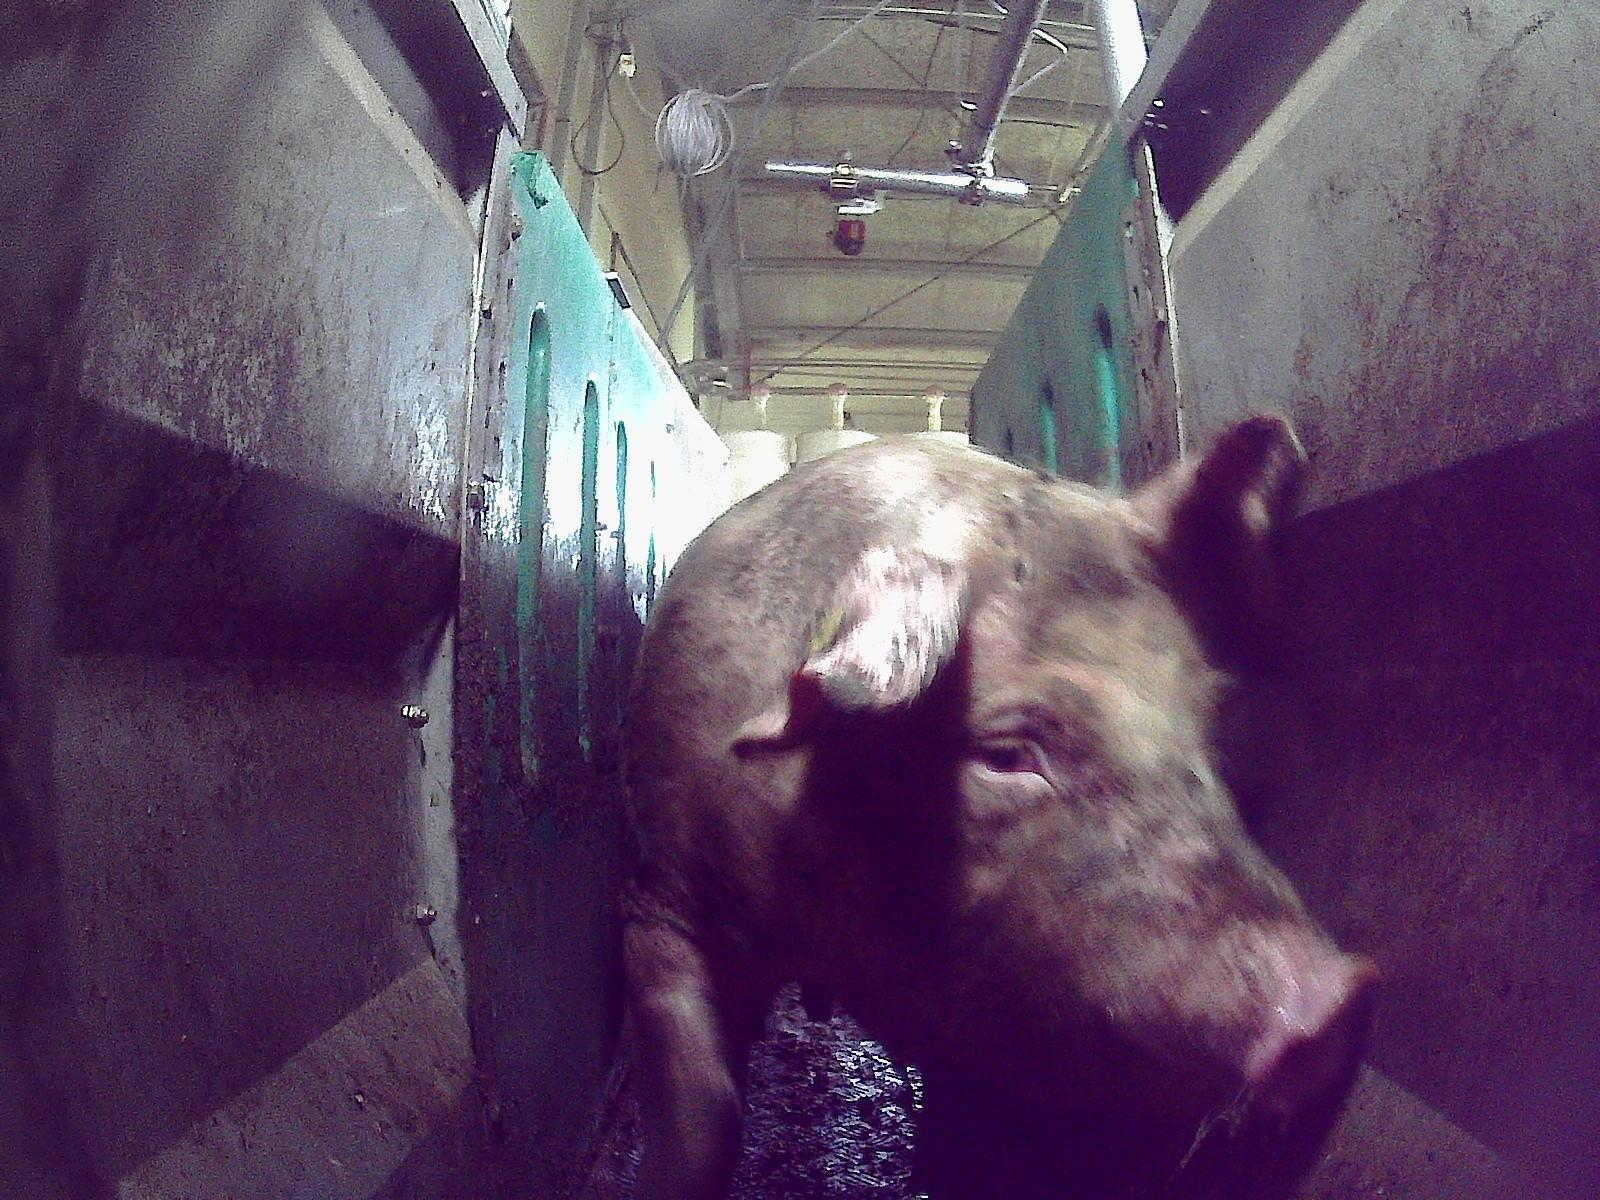Face: (844, 597, 1378, 1118)
